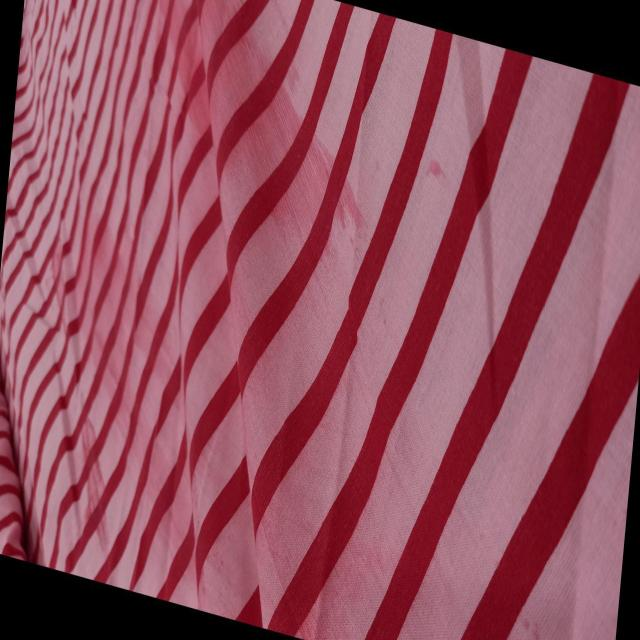baekra: (208, 251, 418, 640), (110, 0, 385, 277), (12, 192, 200, 585)
stain: (509, 611, 591, 640)
